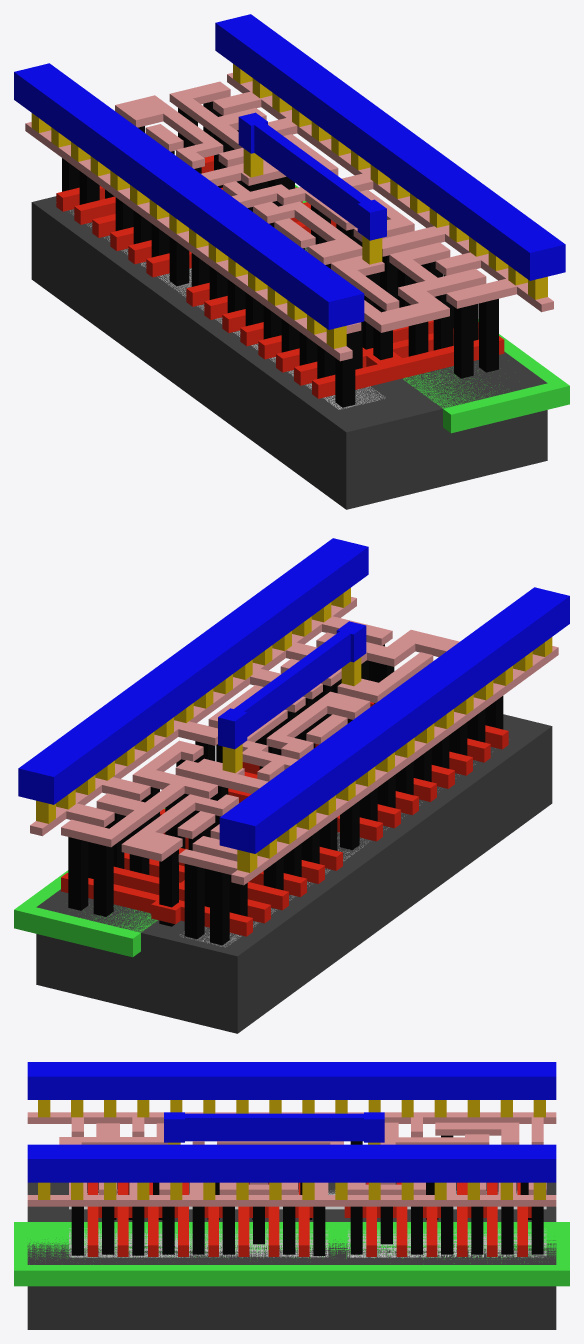
Rendered from sky130_fd_sc_hd__a2bb2o_4.obj.
3 views of the same model, one above another, from view 1: azimuth 30°, elevation 25°; view 2: azimuth 150°, elevation 25°; view 3: azimuth 270°, elevation 25° (orthographic). The views are drawn at different scales.
Parts seen in each view (by area): view 1: subs, metal1, li, licon, poly, mcon, nwell, diff; view 2: metal1, subs, li, licon, poly, mcon, nwell; view 3: metal1, subs, nwell, li, licon, poly, mcon, tap.
Boxes of the visible parts, x1,y1,x2,y2 form: subs: (31, 196, 547, 509); metal1: (14, 14, 565, 329); li: (25, 73, 553, 361); licon: (62, 101, 498, 407); poly: (56, 155, 504, 398); mcon: (31, 64, 547, 348); nwell: (295, 185, 569, 433); diff: (70, 210, 385, 409); metal1: (18, 538, 569, 853); subs: (36, 714, 552, 1033); li: (30, 597, 558, 885); licon: (68, 644, 503, 945); poly: (61, 702, 508, 936); mcon: (36, 588, 552, 872); nwell: (14, 808, 165, 957); metal1: (27, 1062, 556, 1182); subs: (27, 1182, 556, 1329); nwell: (14, 1222, 569, 1286); li: (27, 1112, 556, 1206); licon: (71, 1135, 543, 1255); poly: (87, 1182, 531, 1256); mcon: (38, 1100, 545, 1199); tap: (69, 1228, 546, 1257).
Bounding box in the file's own units: 3.2 × 2.74 × 7.74.
